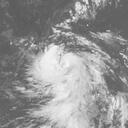cyclone: (34, 44, 106, 127)
